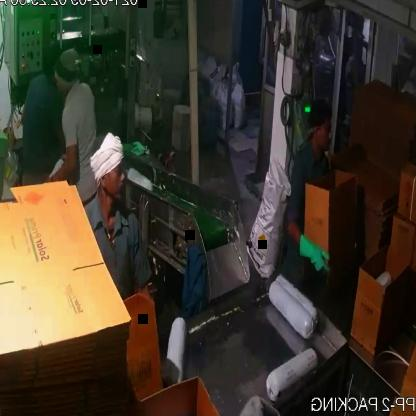glove: (298, 231, 332, 280)
no_glove: (34, 134, 78, 194)
